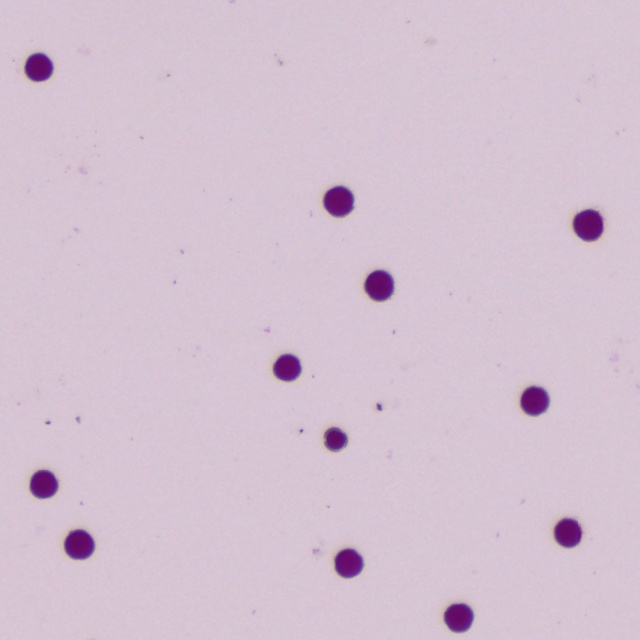viable: (574, 210, 603, 240), (324, 187, 353, 216), (65, 530, 94, 559), (365, 271, 393, 300), (445, 604, 473, 632), (521, 387, 549, 415), (335, 549, 362, 577), (25, 54, 53, 81), (30, 471, 57, 498), (555, 519, 581, 547), (274, 355, 301, 381), (324, 428, 347, 451)
